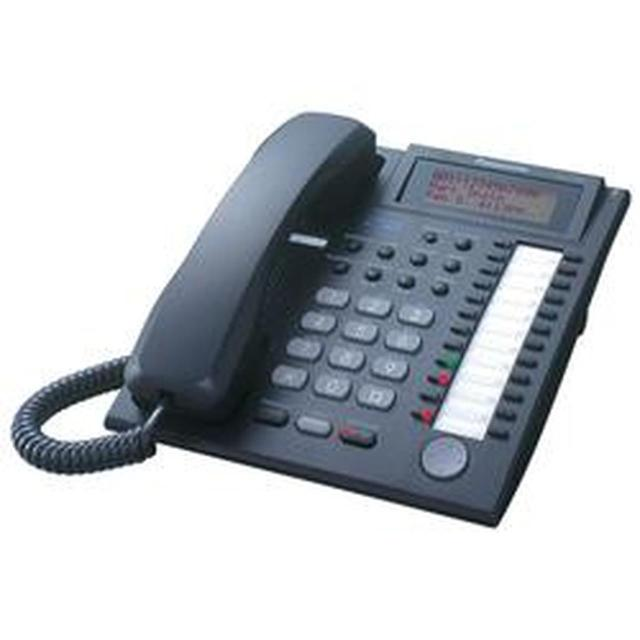Telephone-Set: (3, 52, 625, 572)
